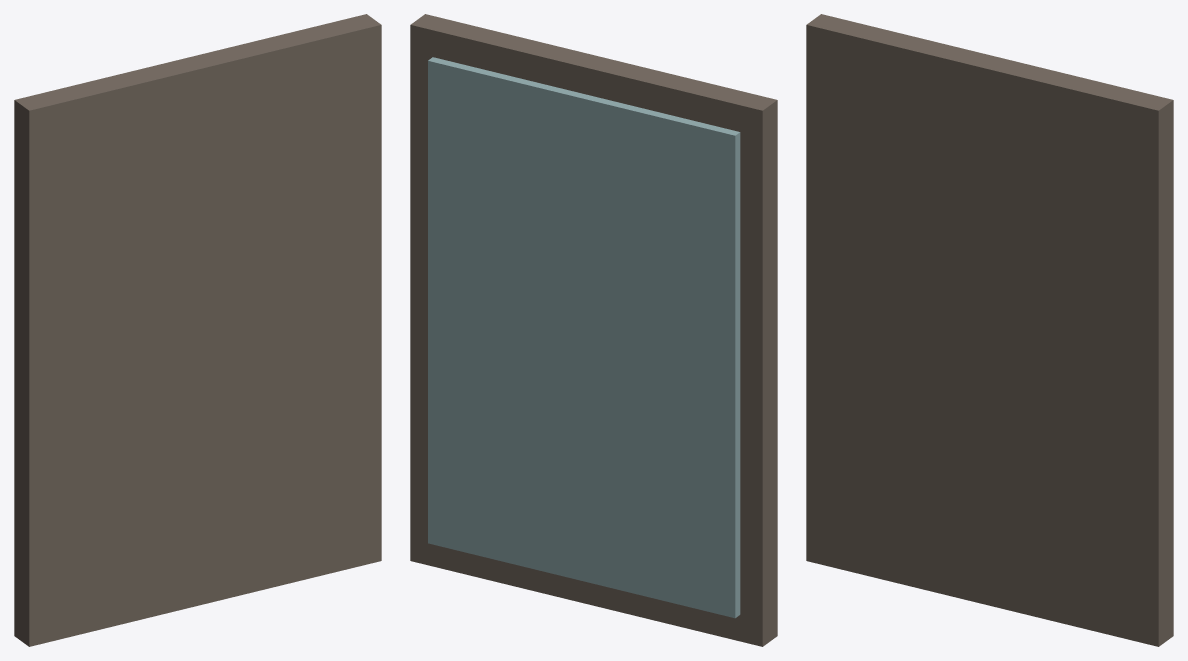
The model's file is wall_mirror.glb.
3 renders of one model, left to right at view 1: azimuth 30°, elevation 25°; view 2: azimuth 150°, elevation 25°; view 3: azimuth 330°, elevation 25°, orthographic.
Visible parts, largest first — view 1: body; view 2: body; view 3: body.
Part boxes in pixels (x1=…): body: x1=14, y1=14, x2=381, y2=646; body: x1=410, y1=14, x2=777, y2=646; body: x1=806, y1=14, x2=1173, y2=646.
Bounding box in the file's own units: 0.55 × 0.8 × 0.0535.
